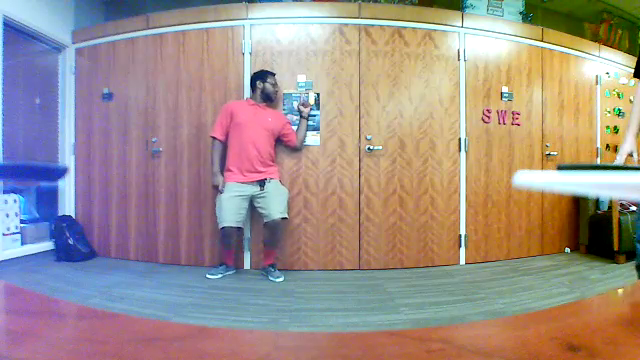up: (293, 90, 316, 121)
